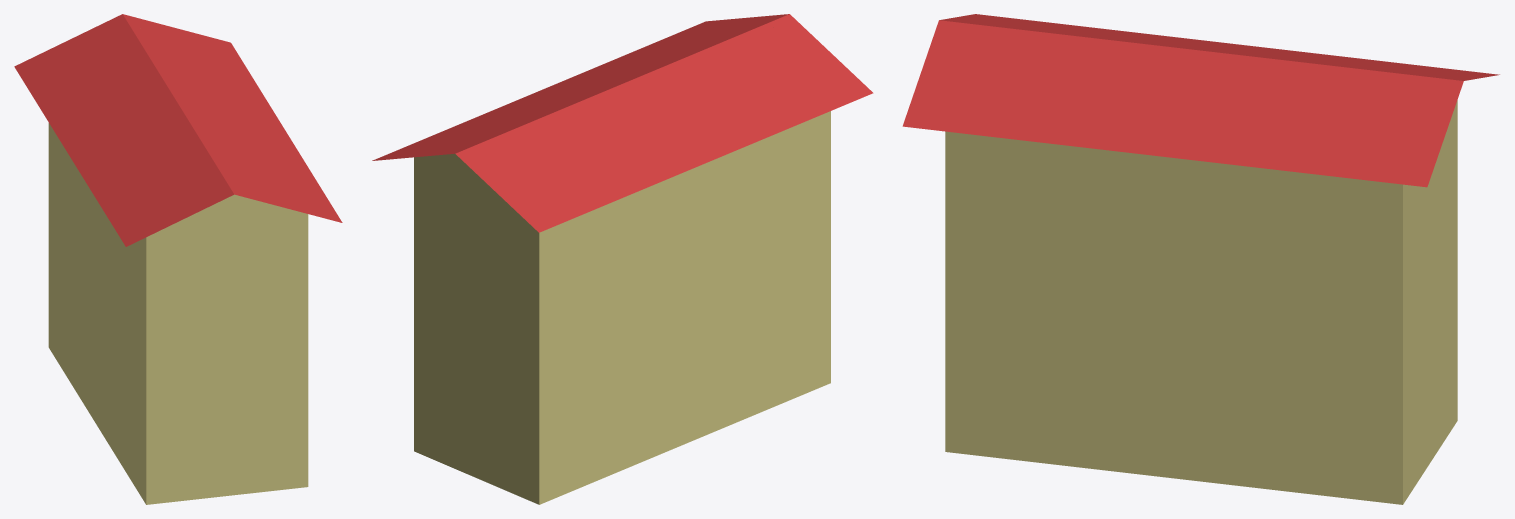
3 views of the same model, side by side, from view 1: azimuth 30°, elevation 25°; view 2: azimuth 150°, elevation 25°; view 3: azimuth 270°, elevation 25° (orthographic). The views are drawn at different scales.
Parts seen in each view (by area): view 1: group_5, group_3, group_4; view 2: group_5, group_3, group_4; view 3: group_5, group_3, group_4.
Part boxes in pixels (<box>): group_5: <box>48,123,308,504</box>; group_3: <box>29,14,342,246</box>; group_4: <box>14,14,342,246</box>; group_5: <box>414,111,830,504</box>; group_3: <box>372,14,873,232</box>; group_4: <box>383,14,871,232</box>; group_5: <box>945,100,1457,504</box>; group_3: <box>903,14,1463,187</box>; group_4: <box>903,15,1499,186</box>.
Size of the model in its own units: 5.88 by 8.58 by 6.1.
